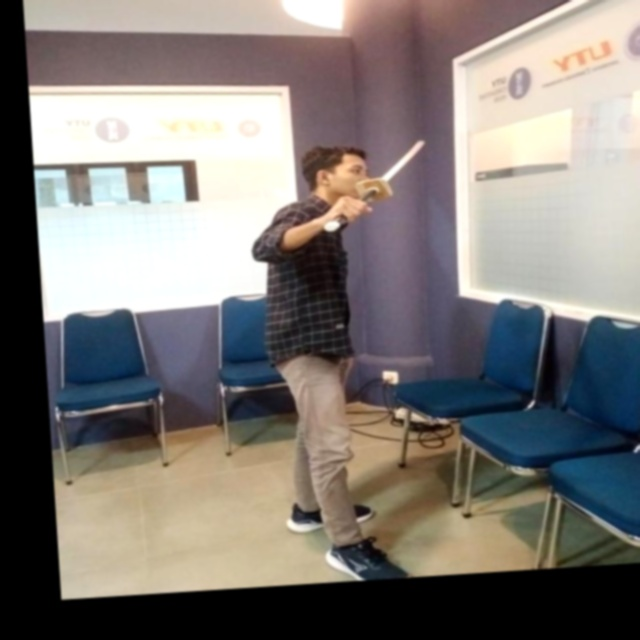Sharp-Object: (322, 135, 445, 241)
